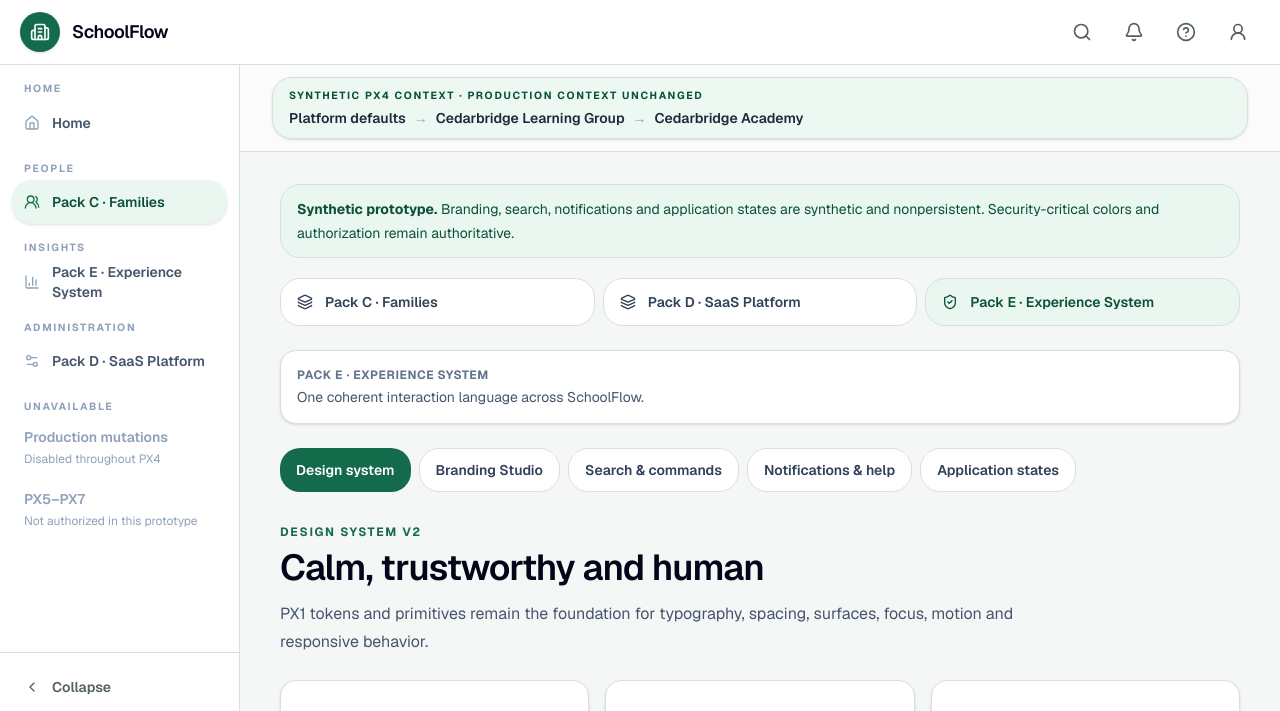
Test: PX4 Prototype Packs C–E › separates search visibility from command authorization
Click the button "Search & commands" at (653, 470), box [568,448,739,492]
(page scrolled)
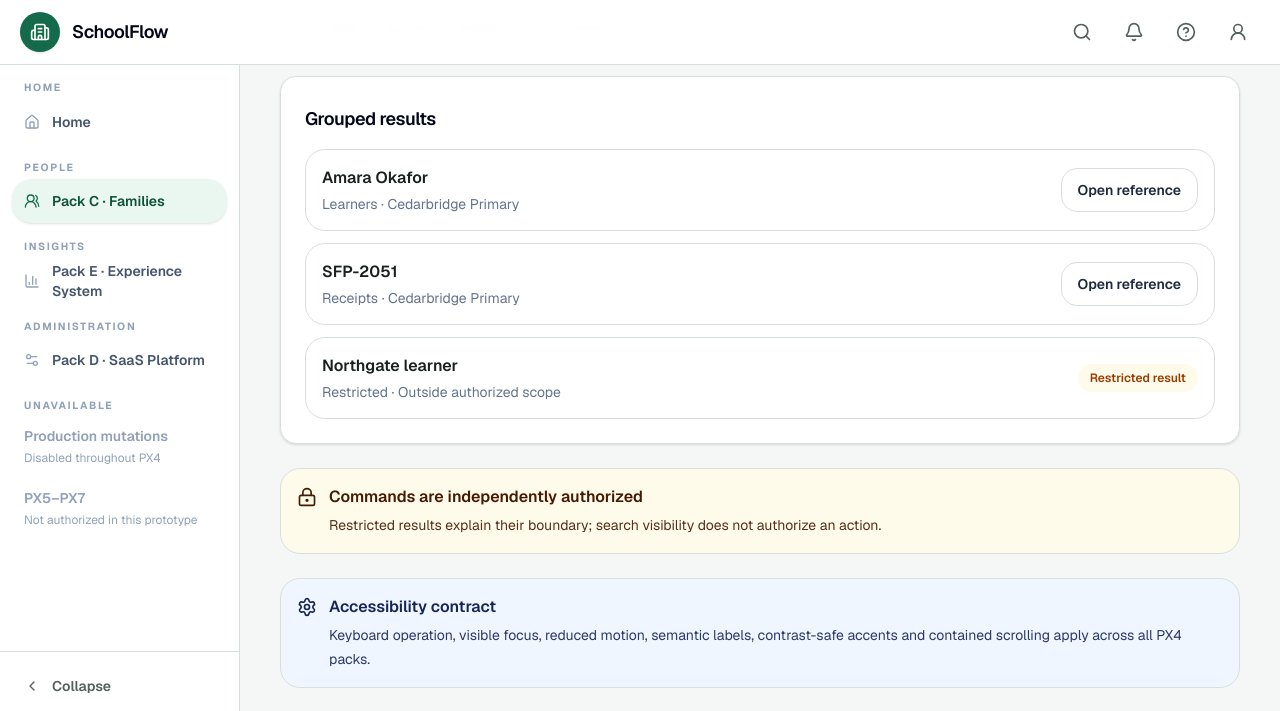
Expected: the text "Northgate learner" is shown, [322,355,458,376]
Expected: the text "Restricted result" is shown, [1078,364,1198,392]
Expected: the text "search visibility does not authorize" is shown, [329,516,881,534]
